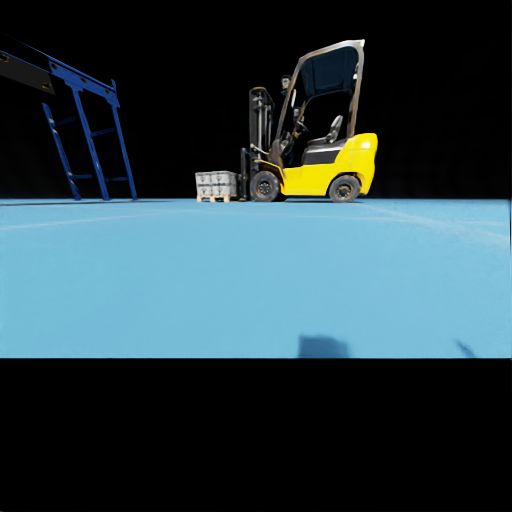transportation_area: (211, 184, 240, 194), (233, 172, 234, 177)
